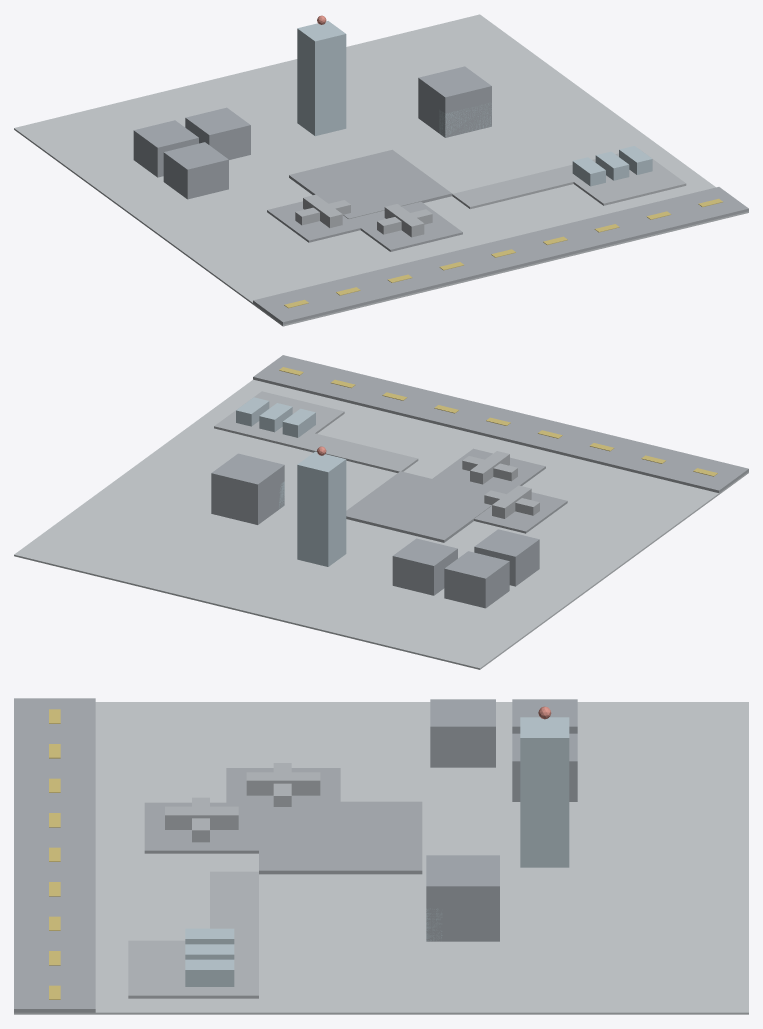
File: stage_10.glb
3 views of the same model, one above another, from view 1: azimuth 30°, elevation 25°; view 2: azimuth 150°, elevation 25°; view 3: azimuth 270°, elevation 25° (orthographic). The views are drawn at different scales.
Parts seen in each view (by area): view 1: geometry_0; view 2: geometry_0; view 3: geometry_0.
Part boxes in pixels (x1,y1,x2,y2): geometry_0: (14, 14, 748, 326); geometry_0: (14, 355, 748, 669); geometry_0: (14, 698, 748, 1014).
Bounding box in the file's own units: 9 × 2.06 × 9.
